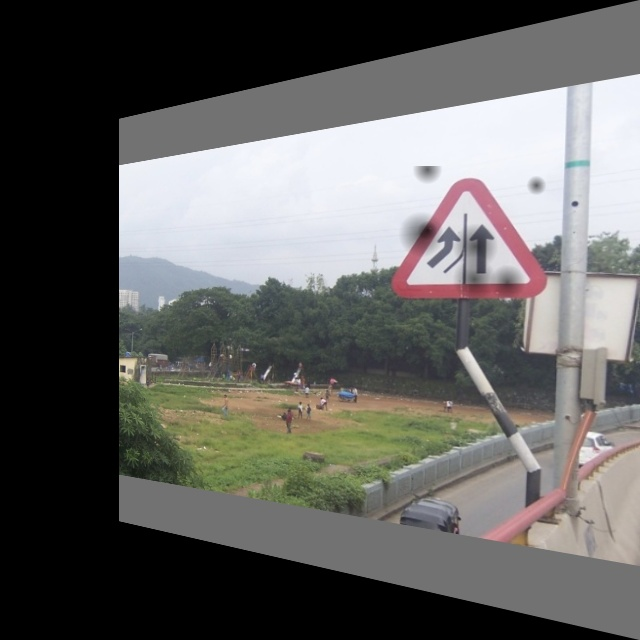Merge_Traffic_Ahead: (396, 166, 549, 305)
